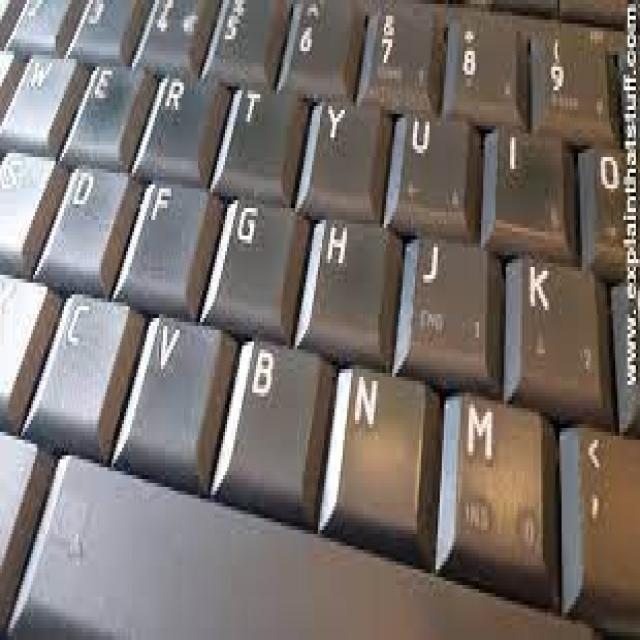keyboard: (13, 7, 627, 636)
